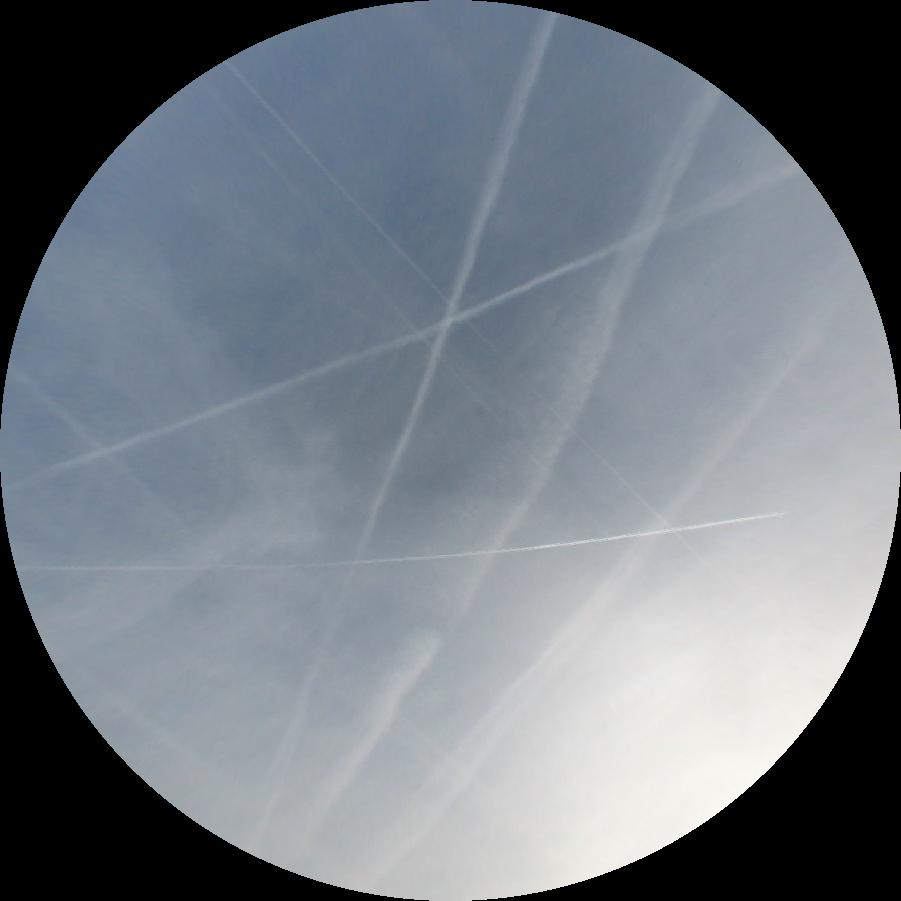contrail old: (1, 158, 800, 494), (252, 11, 559, 855), (196, 80, 665, 591)
contrail veryold: (316, 76, 722, 831), (381, 337, 815, 879), (7, 360, 499, 794)
contrail young: (223, 57, 727, 593), (18, 512, 788, 572)
